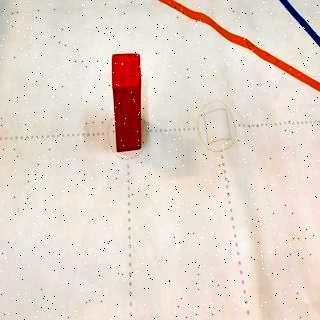redbox: (111, 52, 141, 154)
